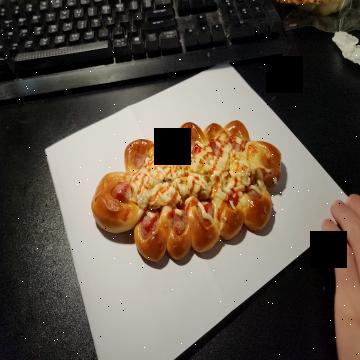pizza_bread: (92, 120, 284, 262)
